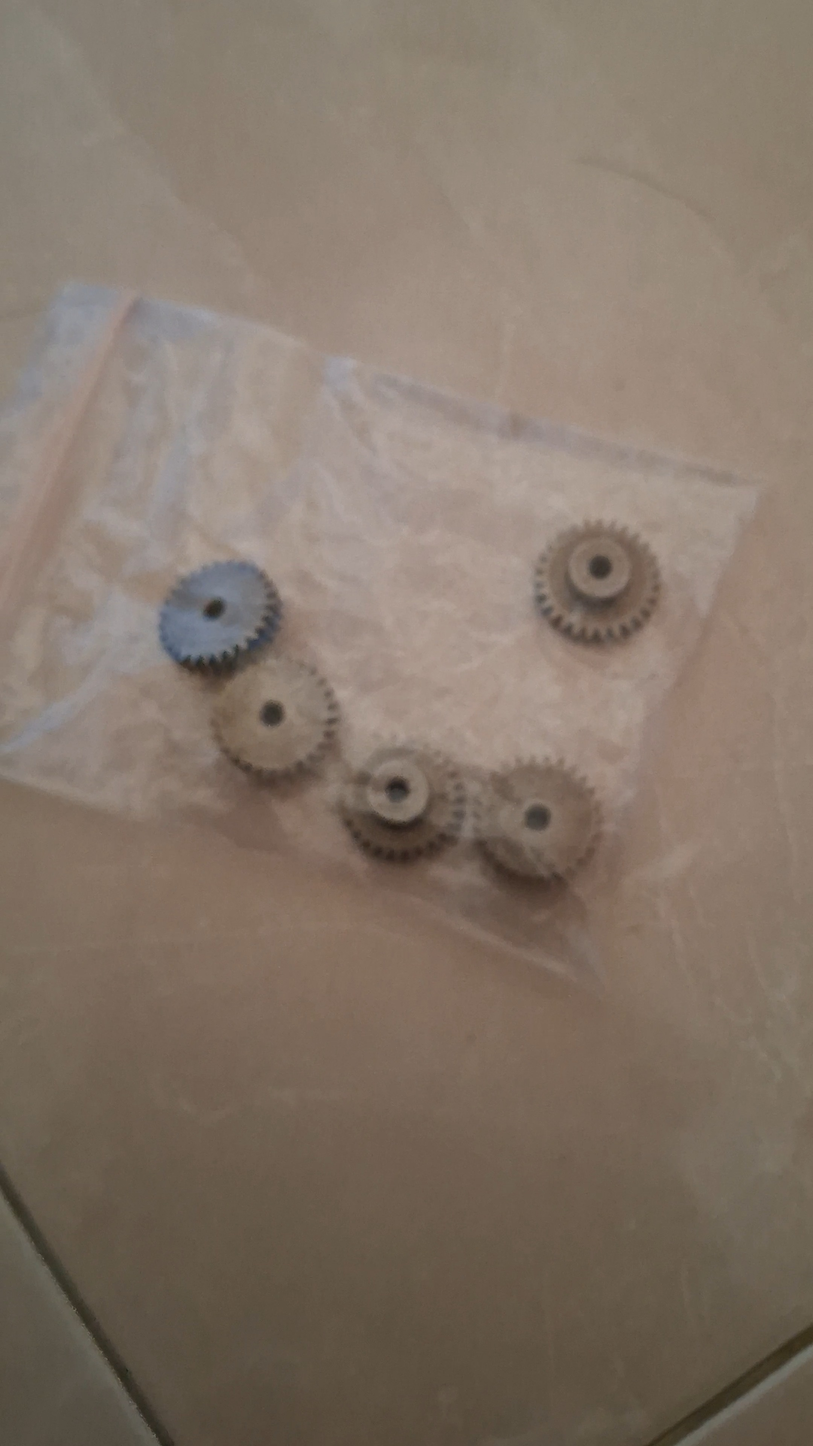spur gear: (212, 657, 338, 779), (534, 522, 661, 643), (477, 761, 601, 881), (339, 746, 465, 861), (159, 560, 282, 671)
